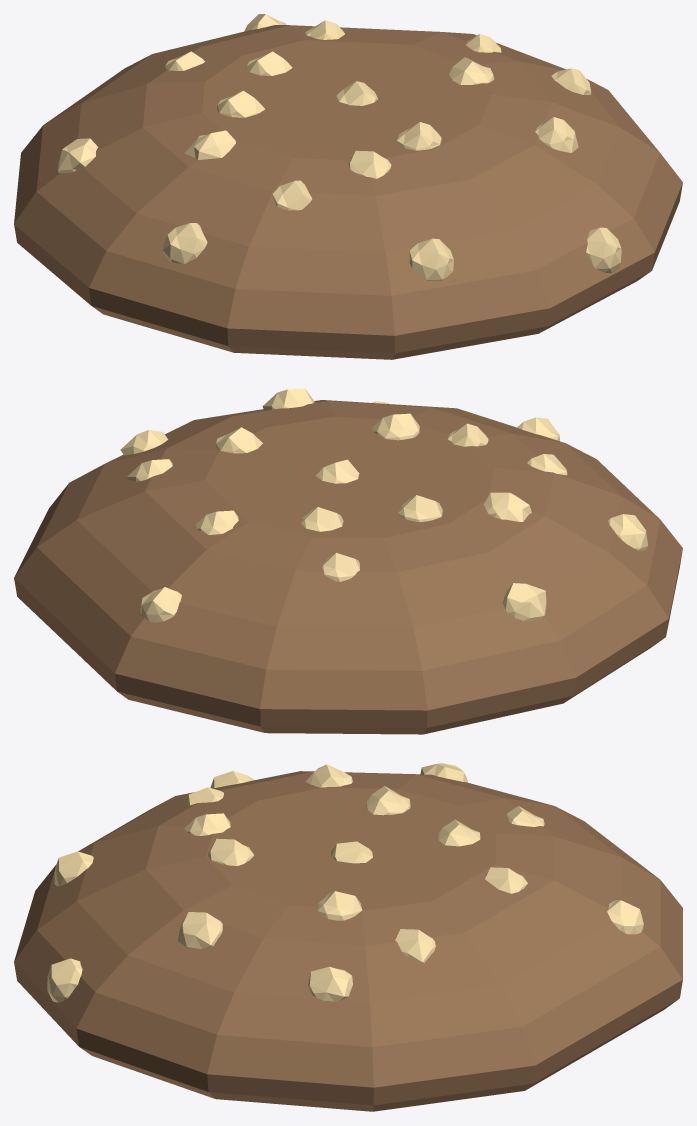
File: rawWhiteCookie.fbx
3 renders of one model, top to bottom at view 1: azimuth 30°, elevation 25°; view 2: azimuth 150°, elevation 25°; view 3: azimuth 270°, elevation 25°, orthographic.
Visible parts, largest first — view 1: Icosphere; view 2: Icosphere; view 3: Icosphere.
Boxes of the visible parts, bbox=[...] form: Icosphere: bbox=[14, 14, 682, 359]; Icosphere: bbox=[14, 388, 682, 734]; Icosphere: bbox=[14, 763, 682, 1111].
Size of the model in its own units: 58.12 by 14.4 by 57.55.
